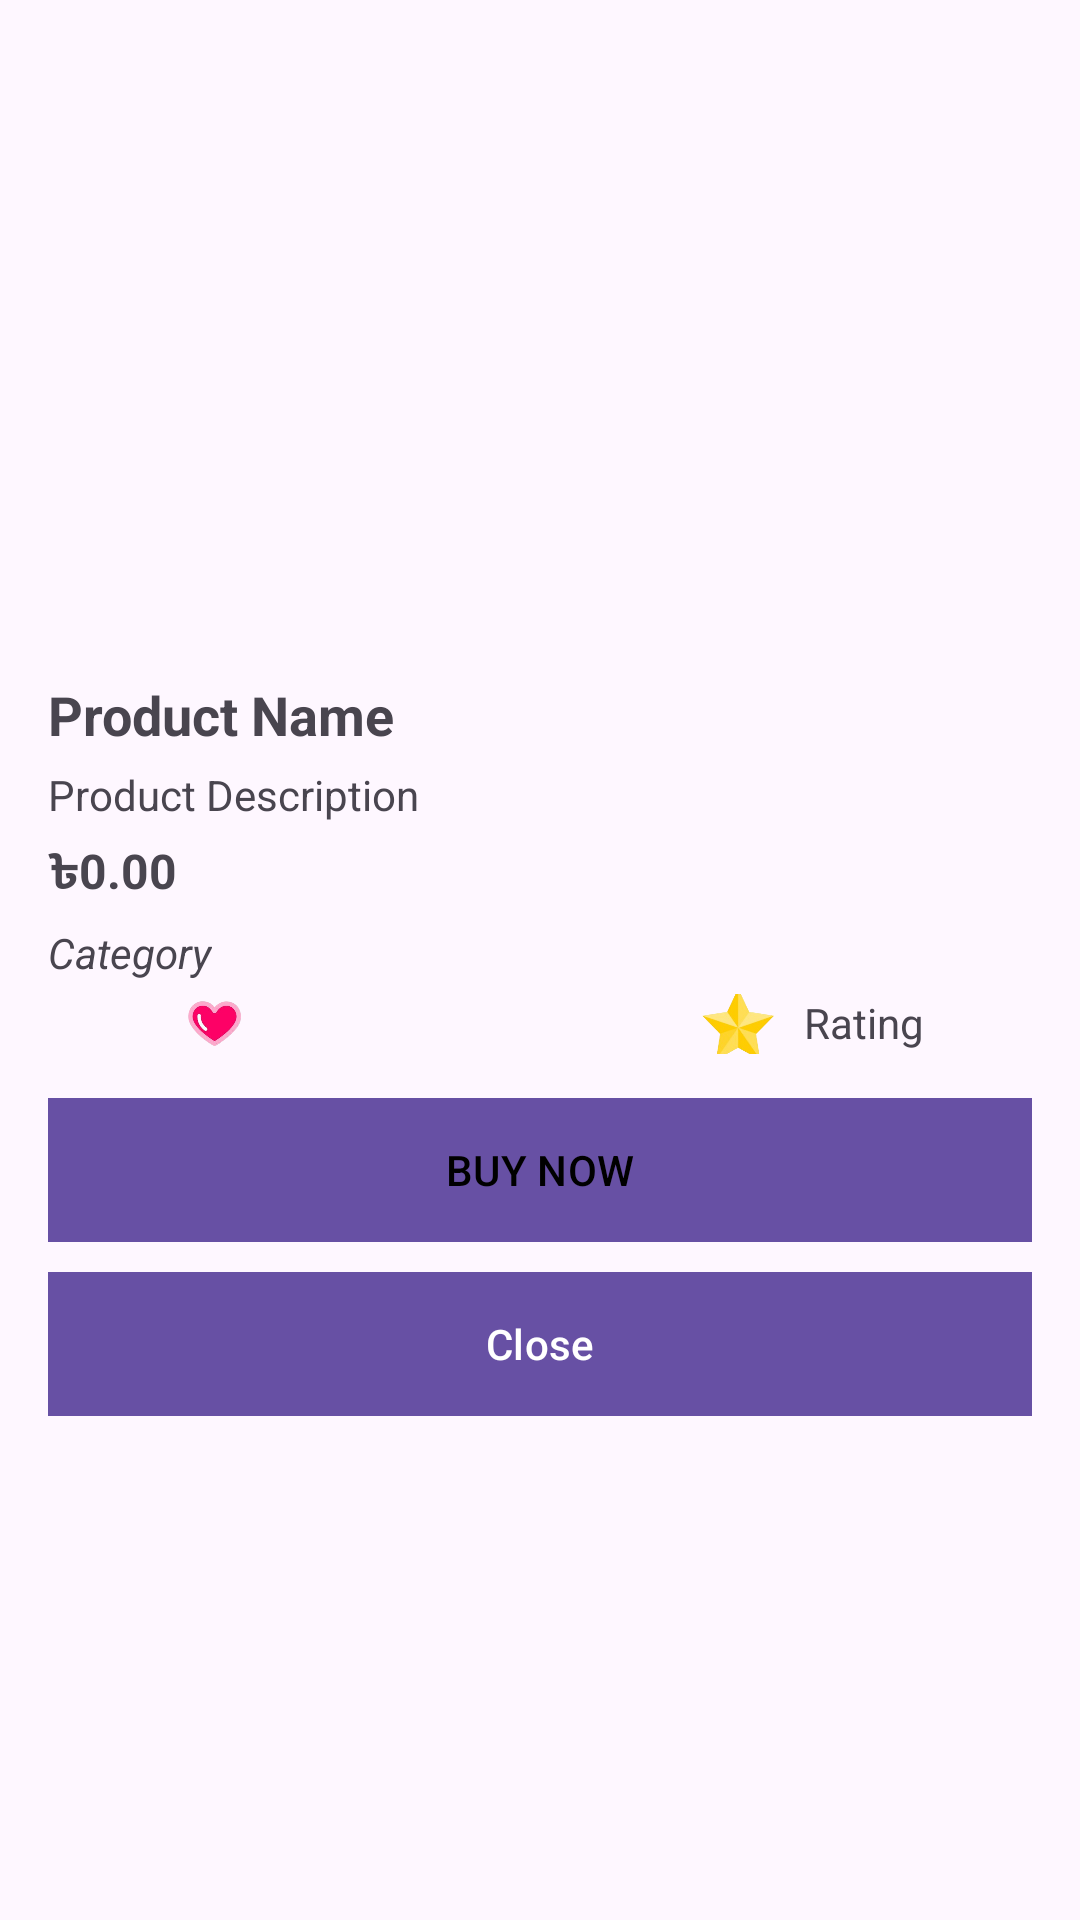

Point at icon controls on the screen. Image size 1080x1920, points as [x,y].
favourite: [214,1023]
